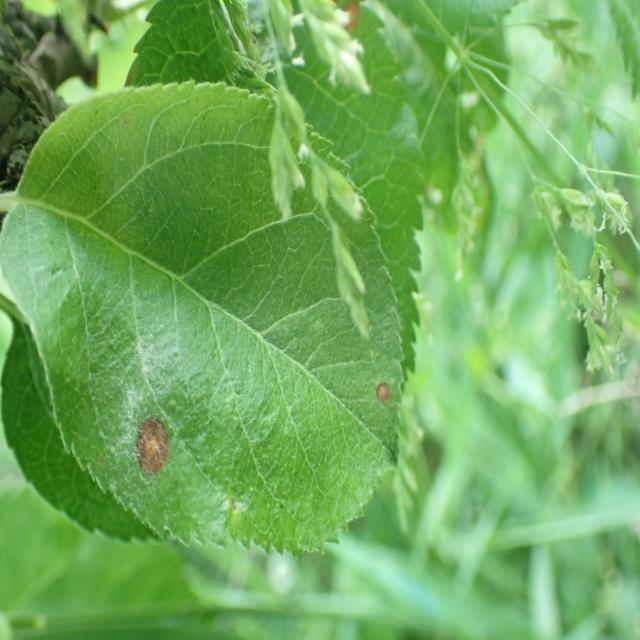Black Rot: (132, 409, 176, 496), (367, 352, 403, 427)
